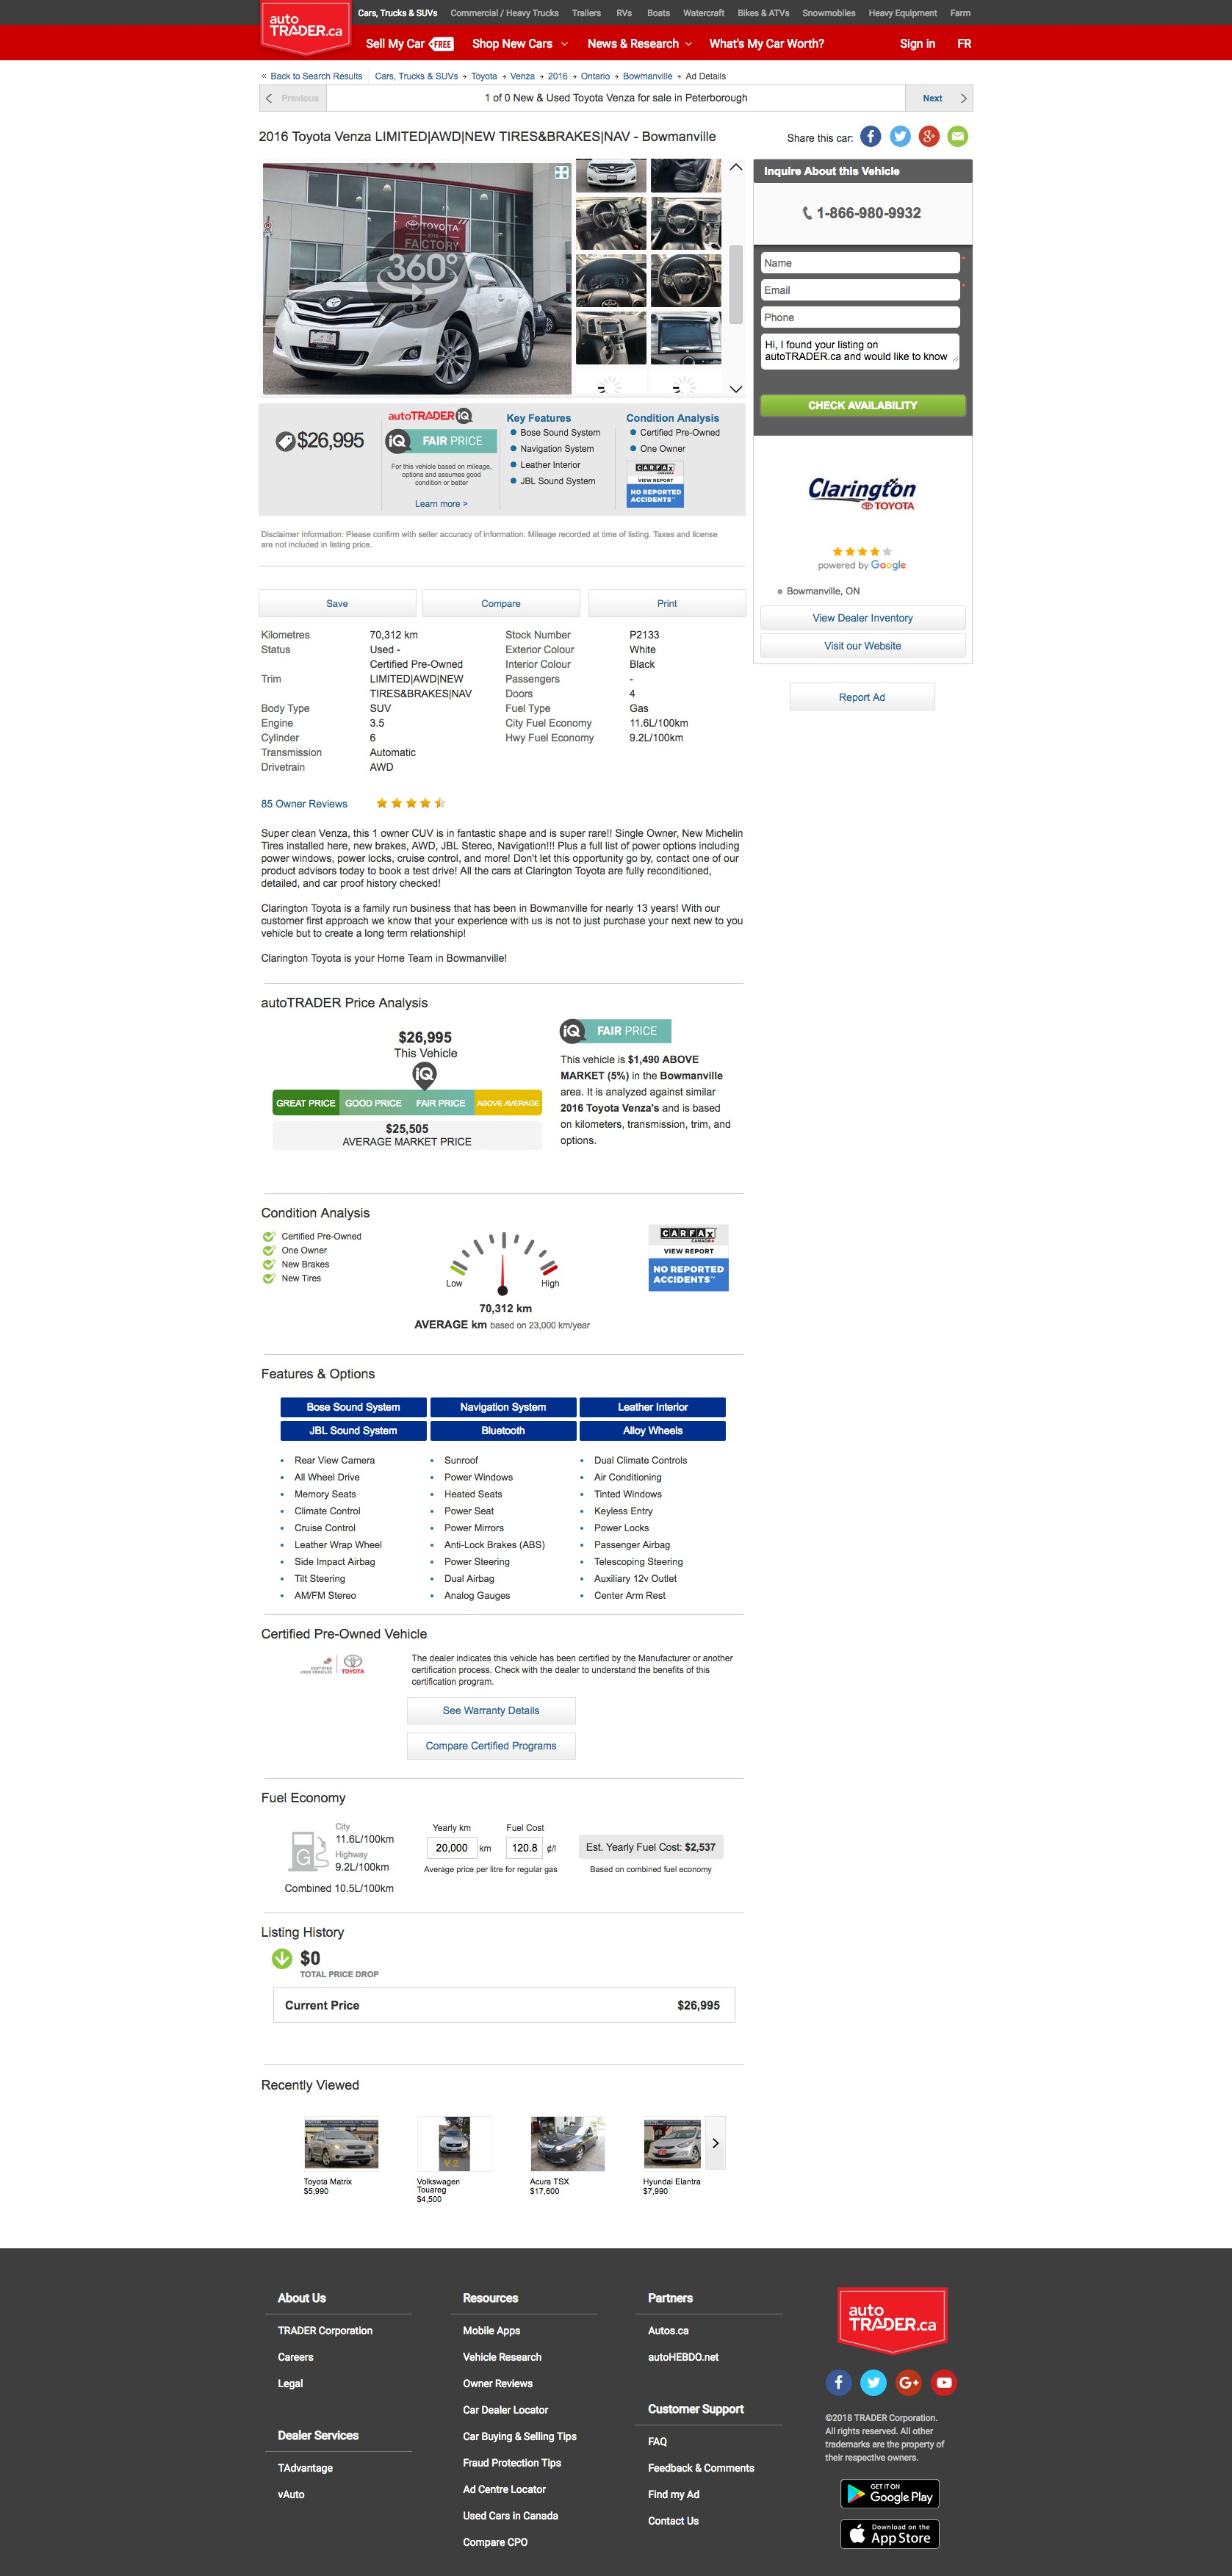car: (729, 384, 744, 394)
